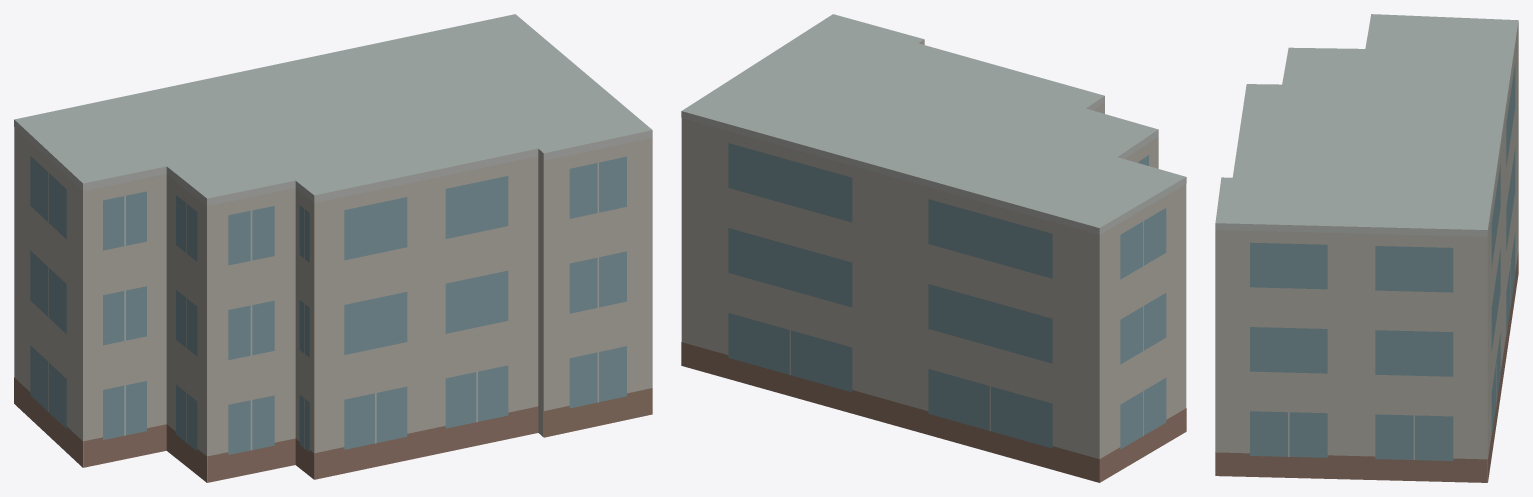
Rendered from survey-upis-32534229.glb.
3 views of the same model, side by side, from view 1: azimuth 30°, elevation 25°; view 2: azimuth 150°, elevation 25°; view 3: azimuth 270°, elevation 25° (orthographic). The views are drawn at different scales.
Parts seen in each view (by area): view 1: survey-upis-32534229.tmp; view 2: survey-upis-32534229.tmp; view 3: survey-upis-32534229.tmp.
Part boxes in pixels (left/top/right/bottom): survey-upis-32534229.tmp: left=14, top=14, right=652, bottom=482; survey-upis-32534229.tmp: left=681, top=14, right=1186, bottom=482; survey-upis-32534229.tmp: left=1215, top=14, right=1518, bottom=482.
Bounding box in the file's own units: 16.78 × 9.15 × 9.96.
